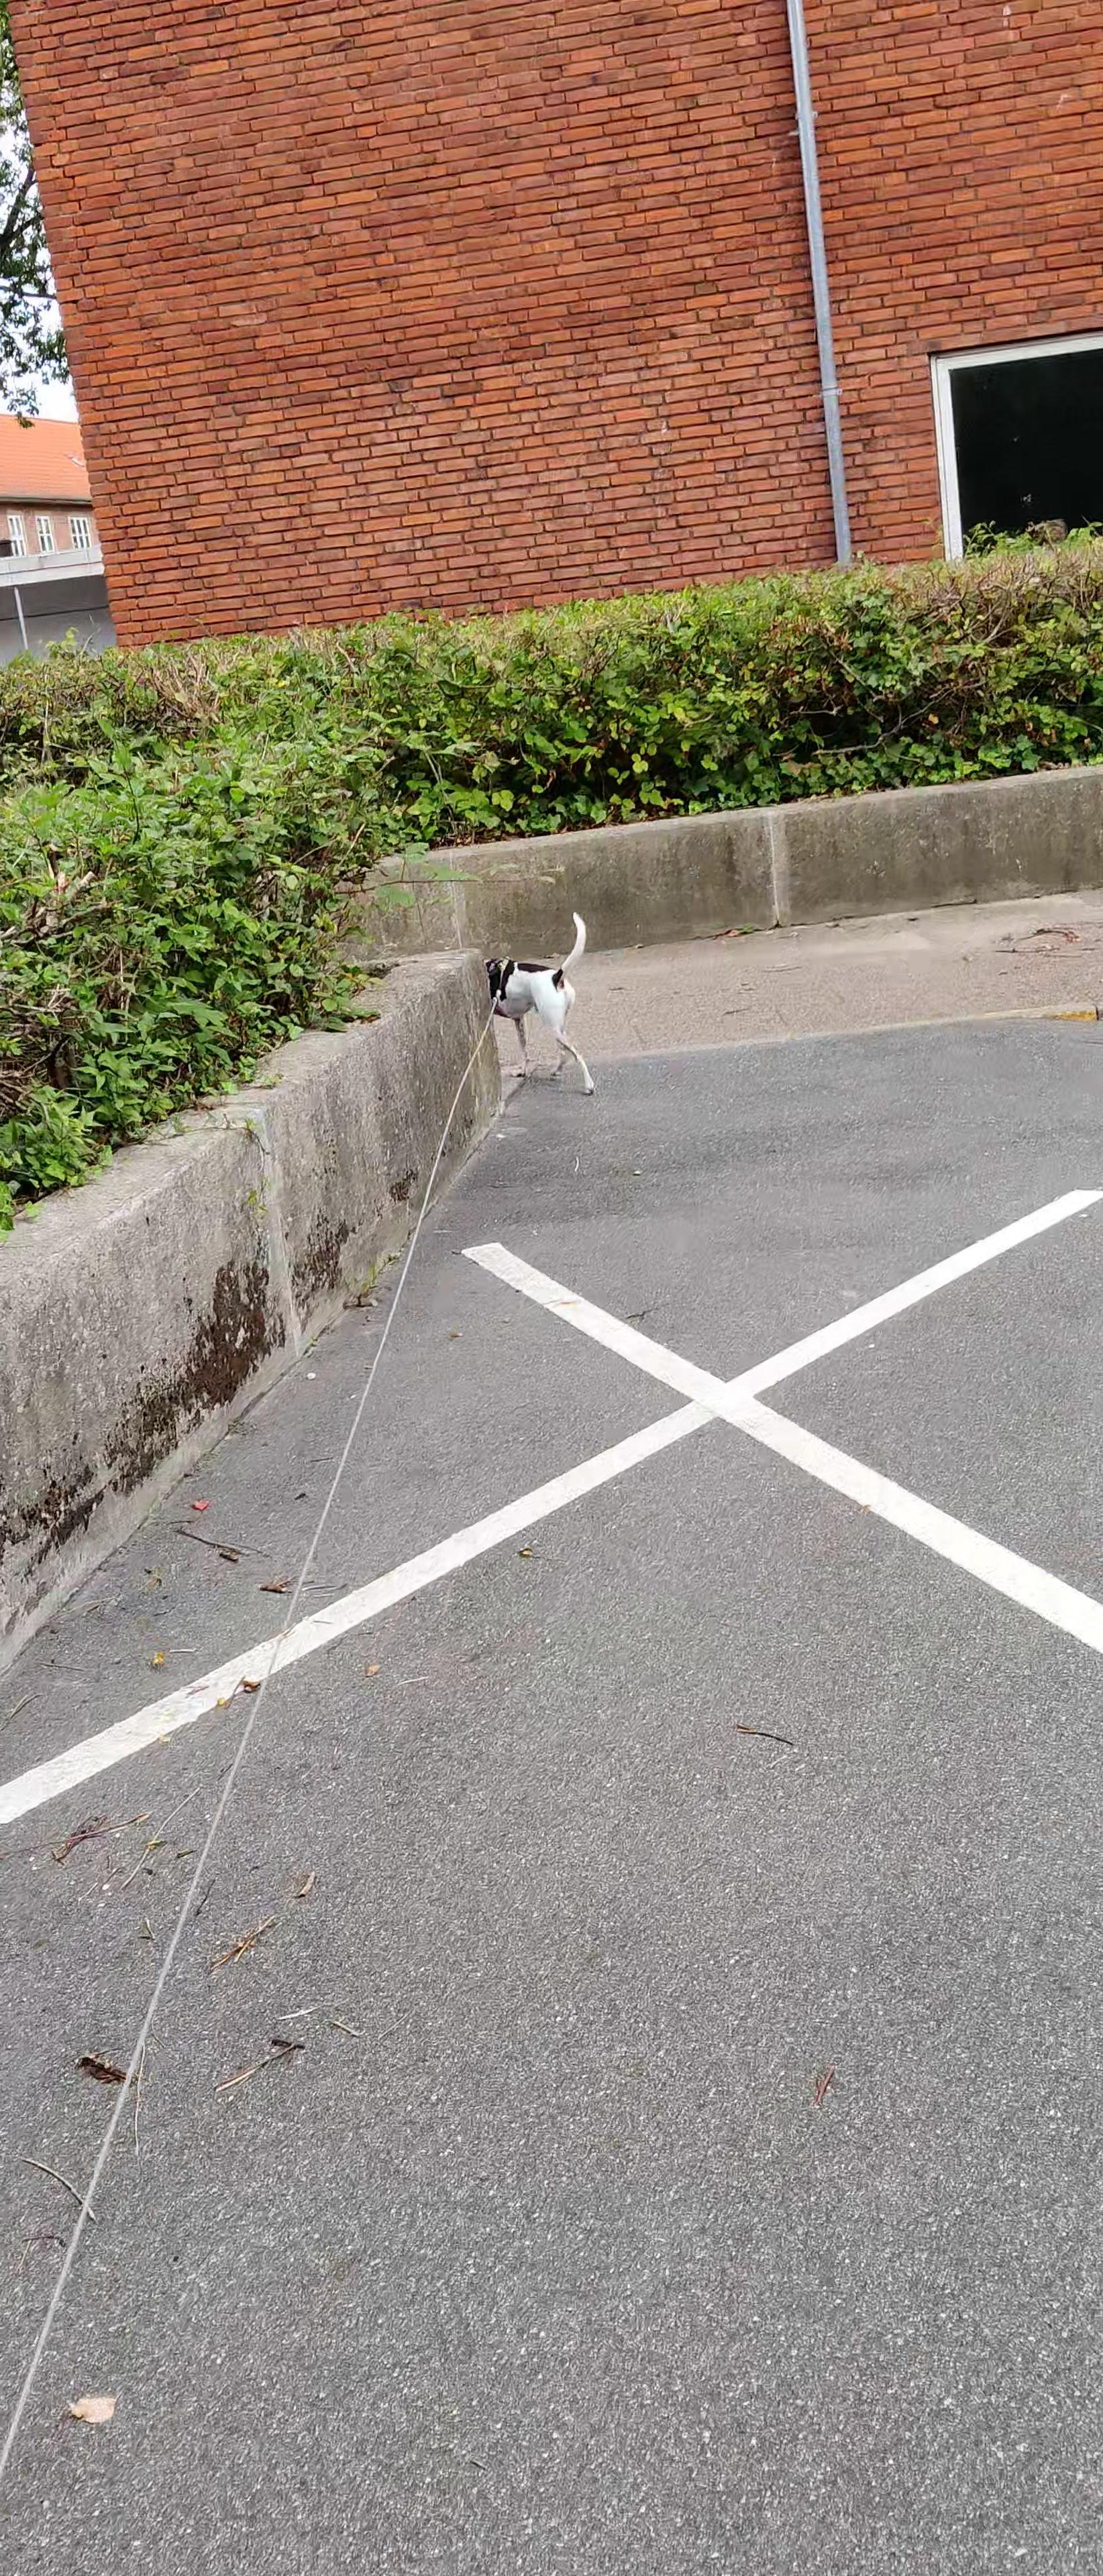Dog: (462, 907, 595, 1097)
